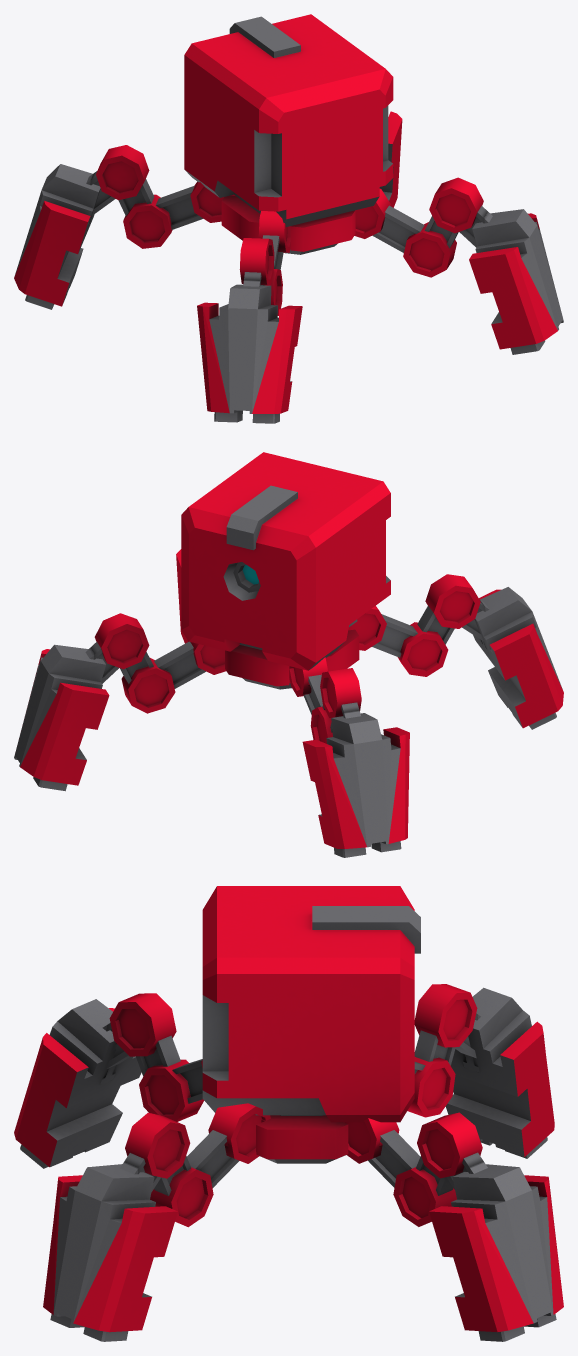
File: Monster1_Attack4.obj
3 renders of one model, top to bottom at view 1: azimuth 30°, elevation 25°; view 2: azimuth 150°, elevation 25°; view 3: azimuth 270°, elevation 25°, orthographic. The views are drawn at different scales.
Visible parts, largest first — view 1: Box006, Object021, Object017, Object025, Object020, Object028, Object027, Object018, Object019, Object026, Object024, Object022 (+1 smaller); view 2: Box006, Object025, Object013, Object021, Object016, Object024, Object023, Object015, Object014, Object022, Object028, Object026 (+1 smaller); view 3: Box006, Object013, Object017, Object021, Object025, Object018, Object024, Object016, Object020, Object023, Object028, Object014 (+4 smaller).
Part boxes in pixels (left/top/right/bottom): Box006: left=184, top=14, right=393, bottom=254; Object021: left=197, top=284, right=302, bottom=423; Object017: left=469, top=209, right=563, bottom=354; Object025: left=14, top=164, right=100, bottom=309; Object020: left=429, top=177, right=492, bottom=247; Object028: left=86, top=145, right=149, bottom=215; Object027: left=118, top=179, right=172, bottom=248; Object018: left=354, top=188, right=424, bottom=252; Object019: left=403, top=216, right=458, bottom=277; Object026: left=155, top=181, right=235, bottom=229; Object024: left=239, top=238, right=274, bottom=286; Object022: left=258, top=211, right=290, bottom=269; Box006: left=181, top=452, right=390, bottom=689; Object025: left=302, top=713, right=409, bottom=857; Object013: left=14, top=644, right=109, bottom=791; Object021: left=473, top=587, right=563, bottom=729; Object016: left=85, top=613, right=149, bottom=683; Object024: left=425, top=574, right=489, bottom=641; Object023: left=397, top=606, right=454, bottom=676; Object015: left=120, top=652, right=175, bottom=713; Object014: left=154, top=641, right=225, bottom=688; Object022: left=348, top=605, right=417, bottom=657; Object028: left=320, top=668, right=361, bottom=718; Object026: left=289, top=657, right=327, bottom=714; Box006: left=202, top=886, right=420, bottom=1163; Object013: left=429, top=1164, right=563, bottom=1341; Object017: left=43, top=1164, right=177, bottom=1341; Object021: left=14, top=999, right=141, bottom=1168; Object025: left=445, top=987, right=554, bottom=1158; Object018: left=187, top=1103, right=270, bottom=1187; Object024: left=102, top=993, right=176, bottom=1069; Object016: left=417, top=1112, right=487, bottom=1189; Object020: left=120, top=1112, right=190, bottom=1192; Object023: left=136, top=1035, right=204, bottom=1121; Object028: left=414, top=984, right=480, bottom=1058; Object014: left=343, top=1118, right=420, bottom=1187.
Size of the model in its own units: 150 by 101 by 153.
